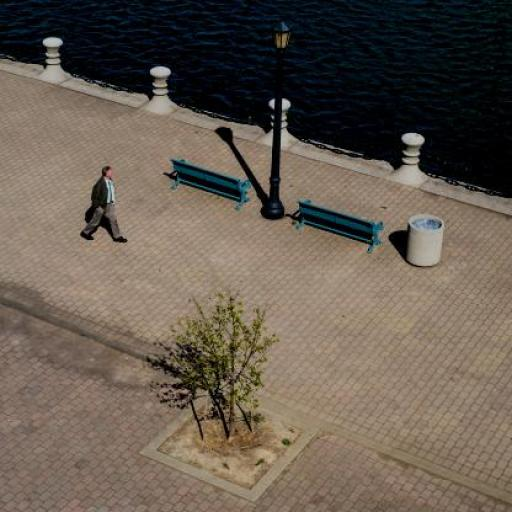street light: (261, 22, 292, 218)
